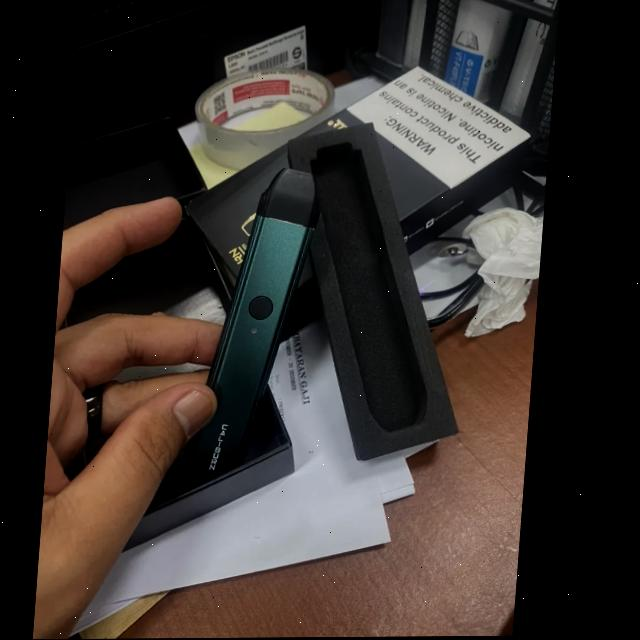vape: (193, 166, 326, 489)
